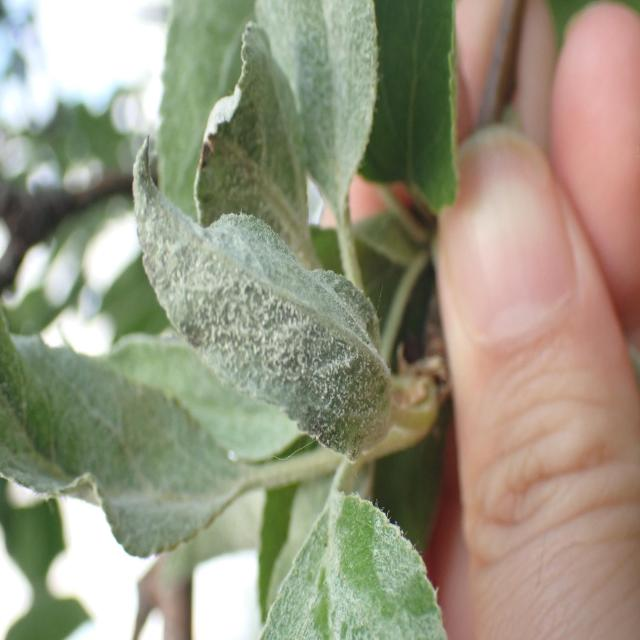Powdery_mildew: (106, 113, 394, 465), (0, 288, 264, 576), (250, 0, 421, 298), (148, 6, 317, 268), (211, 479, 472, 640)
